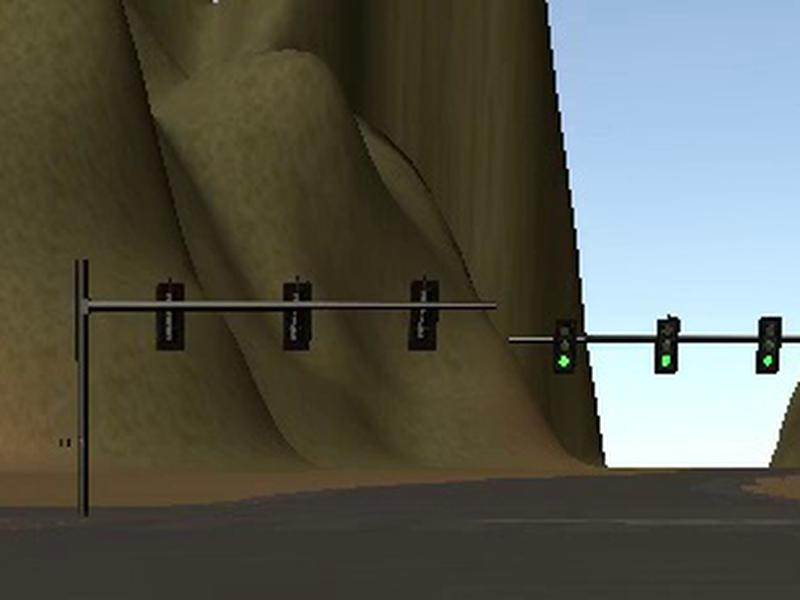Green: (654, 317, 681, 374), (755, 317, 782, 374), (552, 318, 576, 373)
